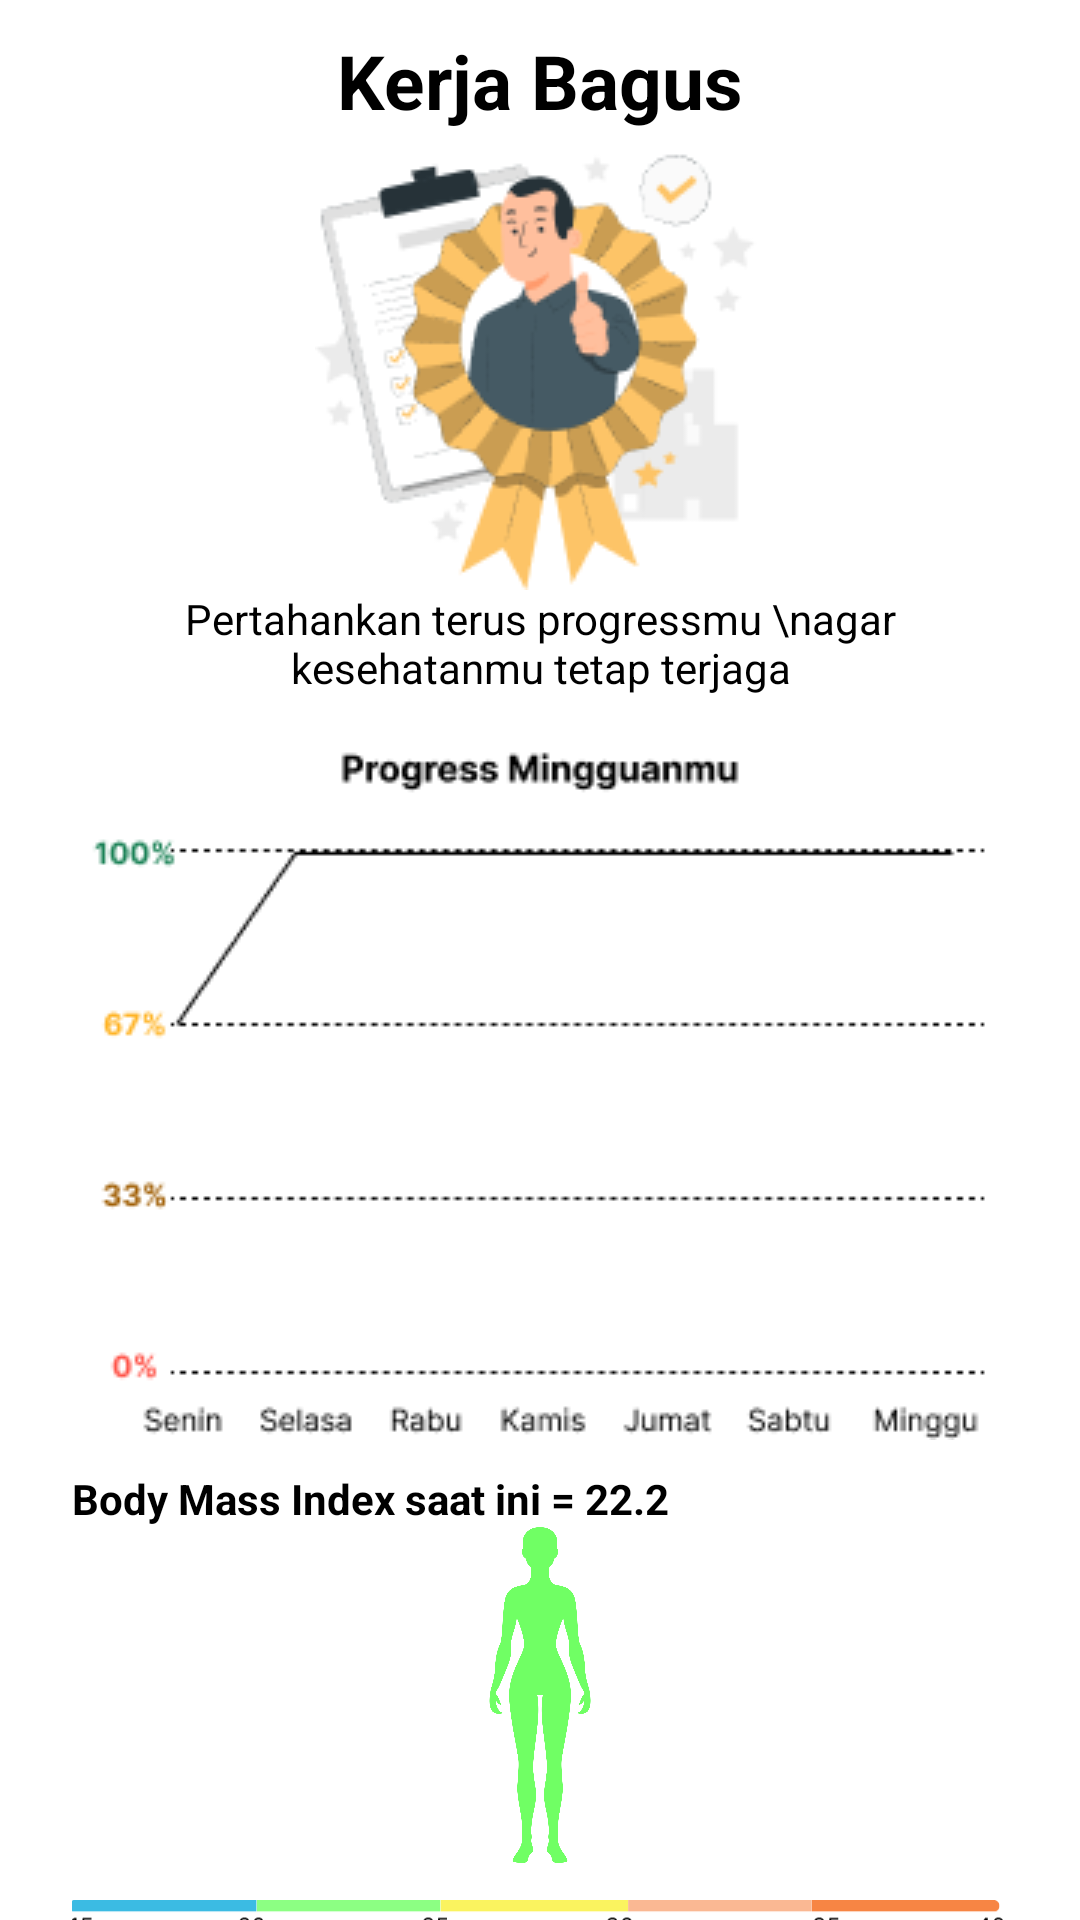

Screen size 1080px x 1920px. Icon name, then its box in pixels as (x1, y1, x2, y2):
body bmi: (489, 1527, 591, 1863)
